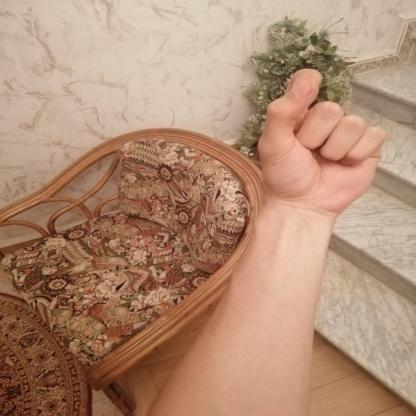FAA: (240, 59, 397, 223)
